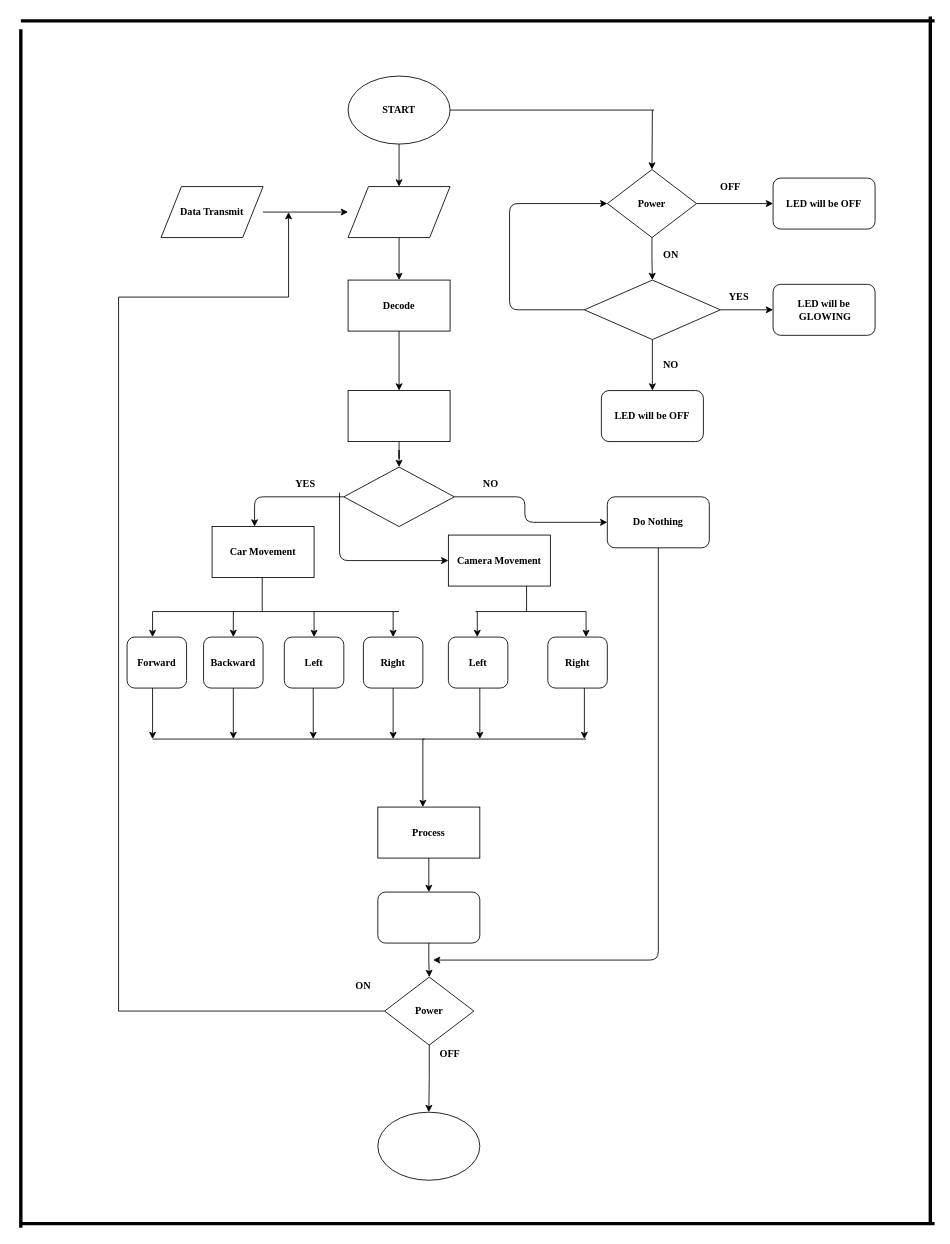
This 950x1244 diagram has some shape labels left out. Here are the shapes that lost their labels. From the top down, the centre of each, then its label:
At point 398,212: "Recieve".
At point 652,309: "Intensity of light > Threshold?".
At point 398,416: "Data Manipulation".
At point 398,496: "Function".
At point 428,917: "Execute".
At point 428,1145: "FINISH".
